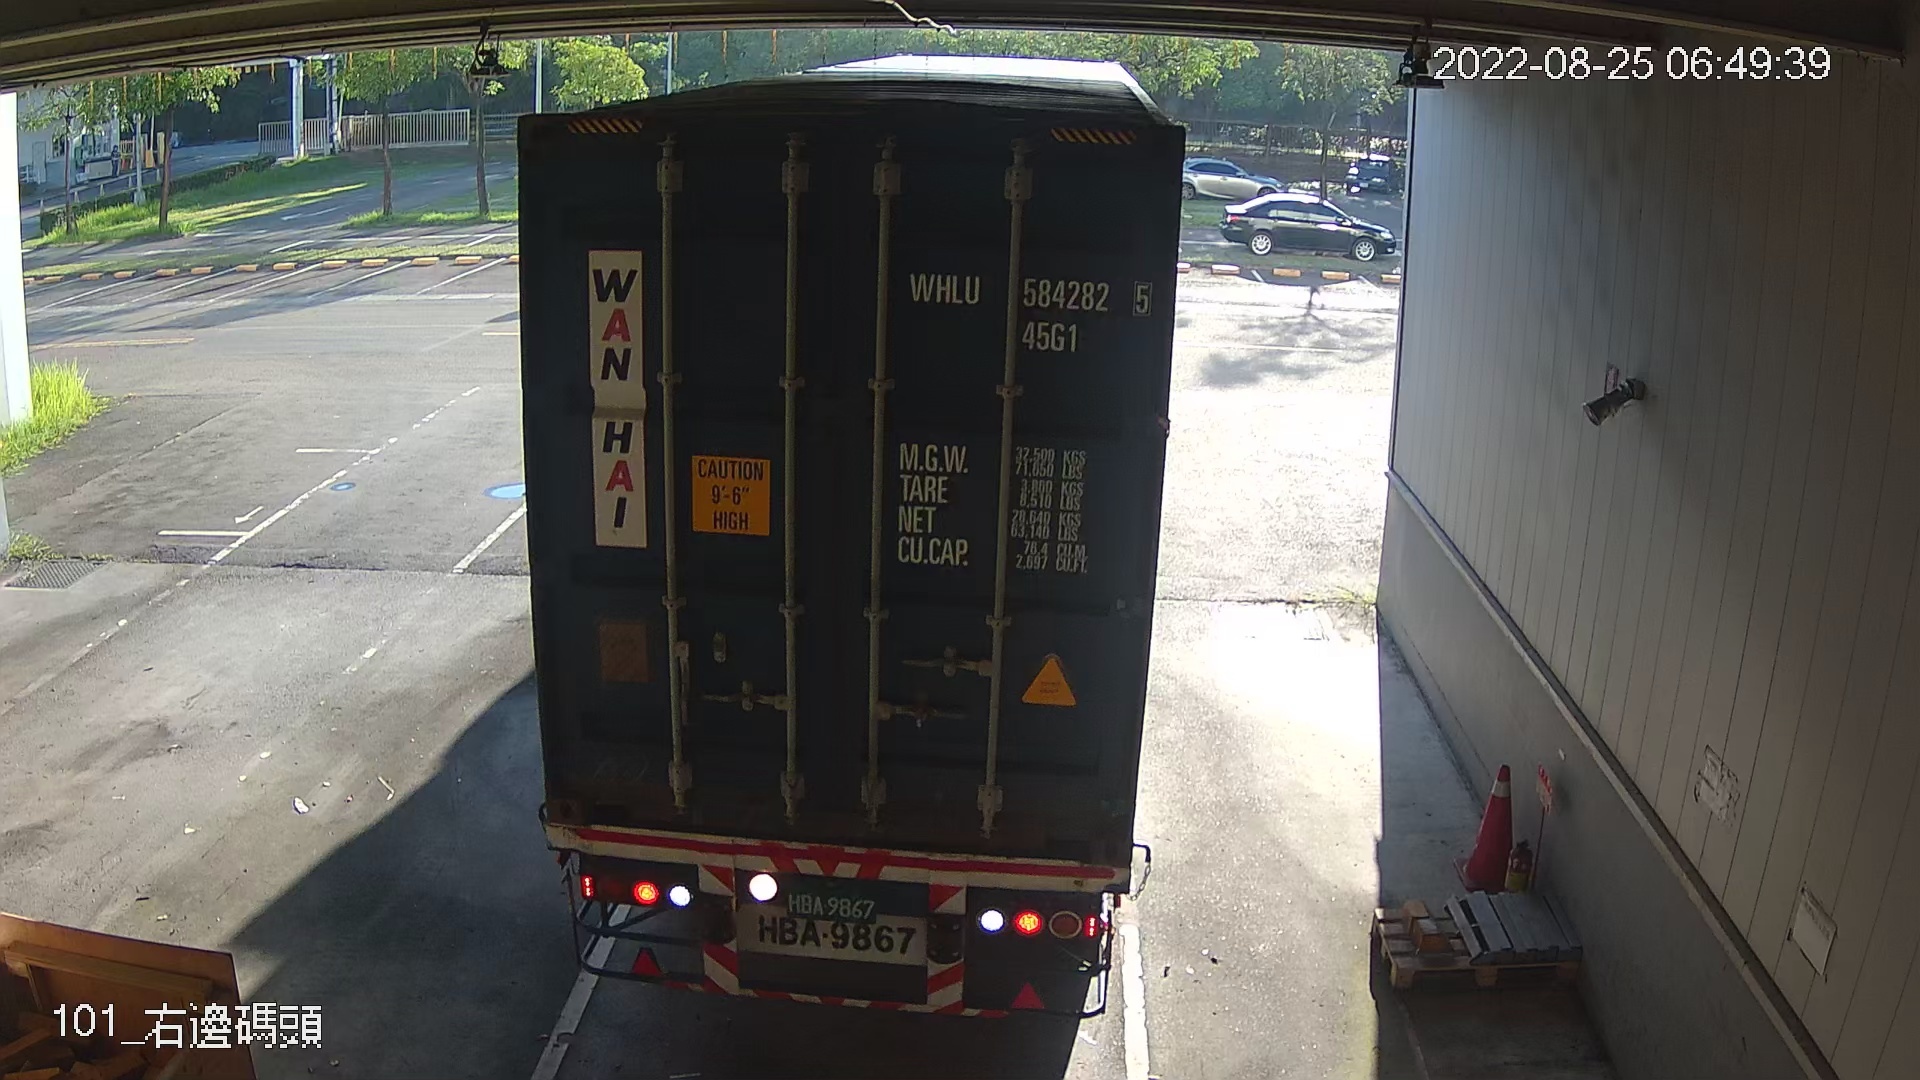container: (898, 257, 1160, 360)
